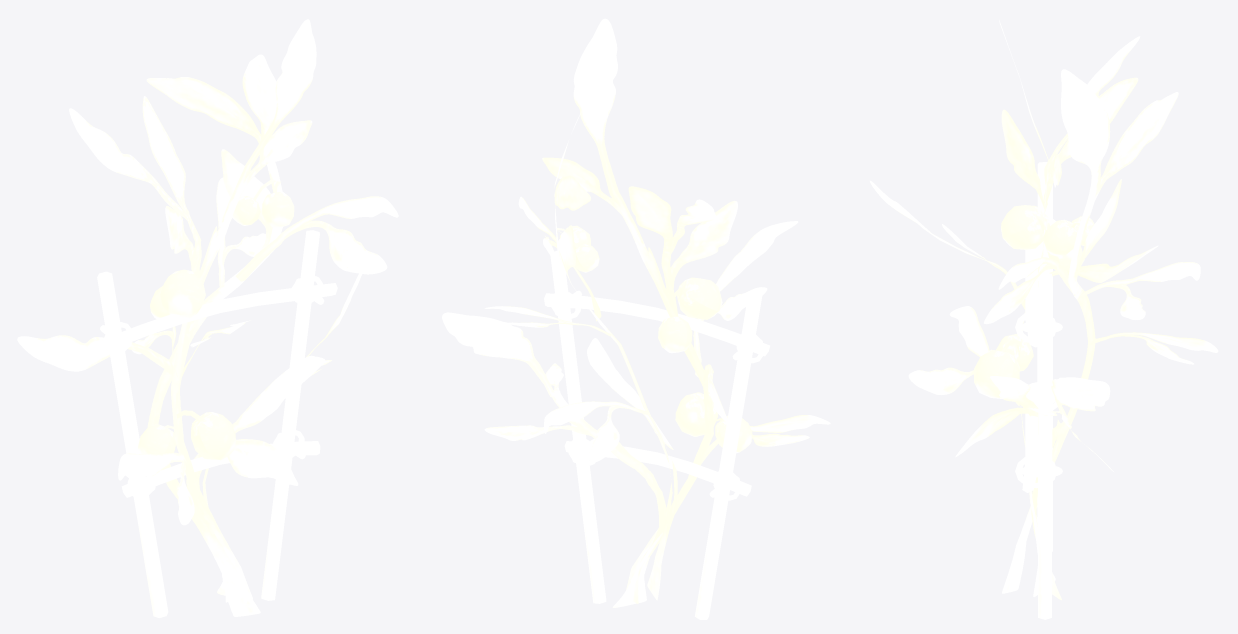
The picture shows the model from 3 angles, left to right: view 1: azimuth 30°, elevation 25°; view 2: azimuth 150°, elevation 25°; view 3: azimuth 270°, elevation 25°; orthographic projection. The views are drawn at different scales.
Visible parts, largest first — view 1: SM_Tomato_01v3_LOD0; view 2: SM_Tomato_01v3_LOD0; view 3: SM_Tomato_01v3_LOD0.
Boxes of the visible parts, left/top/right/bottom form: SM_Tomato_01v3_LOD0: left=17, top=19, right=398, bottom=617; SM_Tomato_01v3_LOD0: left=442, top=18, right=830, bottom=619; SM_Tomato_01v3_LOD0: left=870, top=20, right=1218, bottom=619.
Size of the model in its own units: 0.7435 by 1.23 by 0.6652.
Materials: 1 (1 with a texture image).
